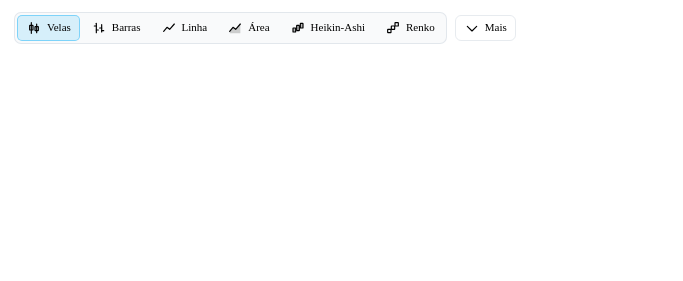
Test case: ChartToolbar — responsivo sem media query › Escape fecha o menu e devolve o foco ao botão
The image size is (683, 281).
Click the button with aria-label "Mais ferramentas" at (485, 28), box [455,15,516,41]
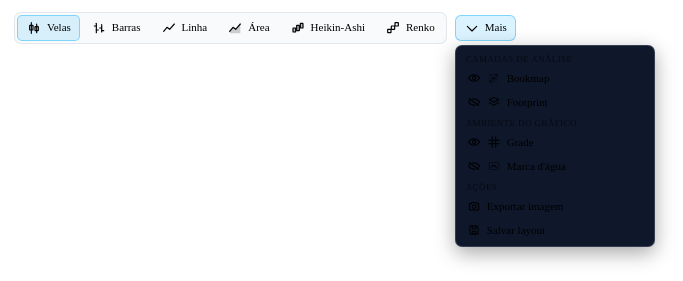
Press Escape in the menu, box [455,45,655,247]
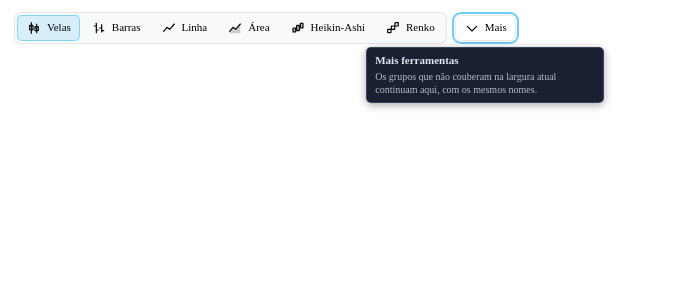
Expected: the menu is gone
